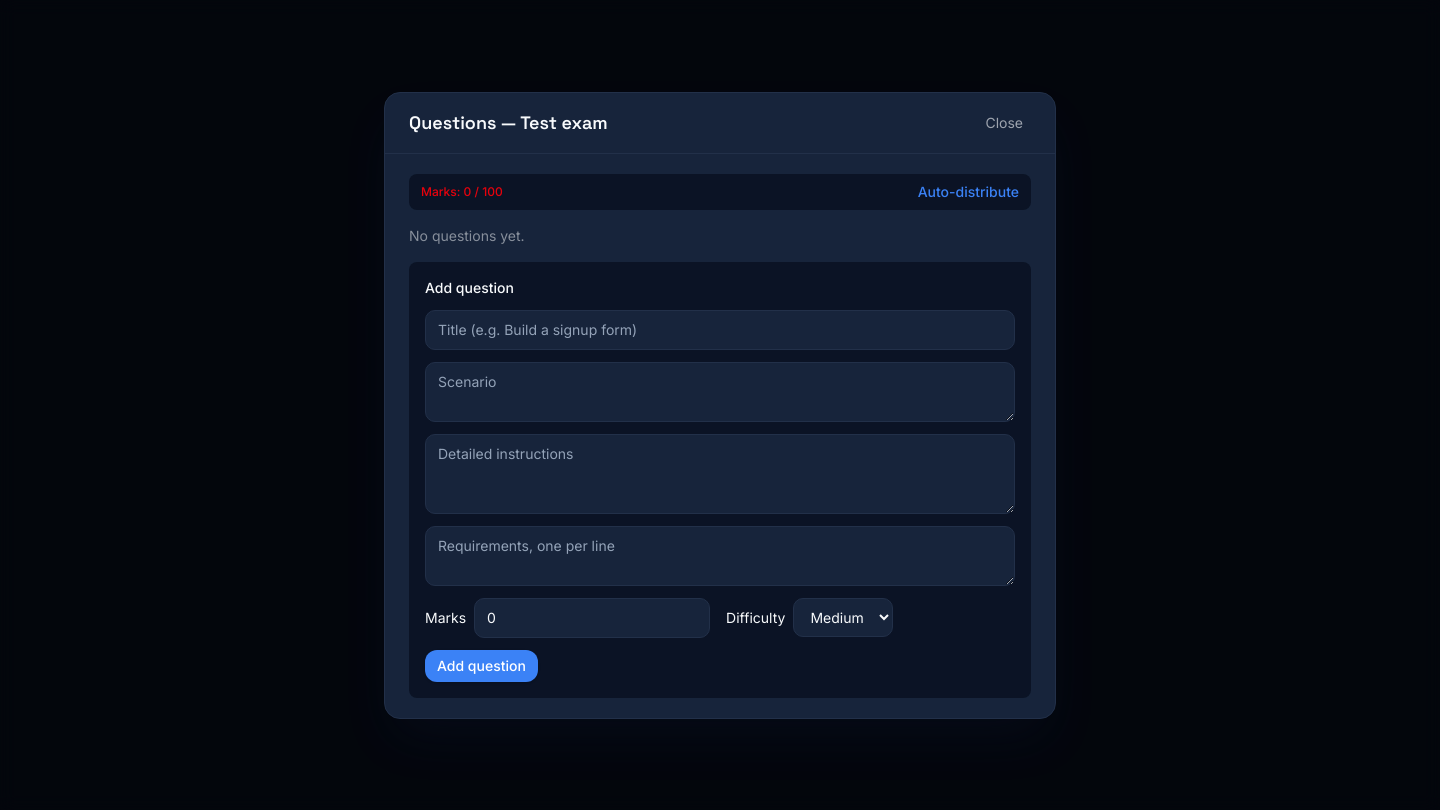
PracticalQuestionsModal › shows a locked banner when the server rejects a change because the exam already has an assignment
Expected: the list item "No questions yet." is shown, [409,226,525,244]
Type "New question" into the field with placeholder "Title (e.g. Build a signup form)". click: (720, 330)
box: [425,310,1015,350]
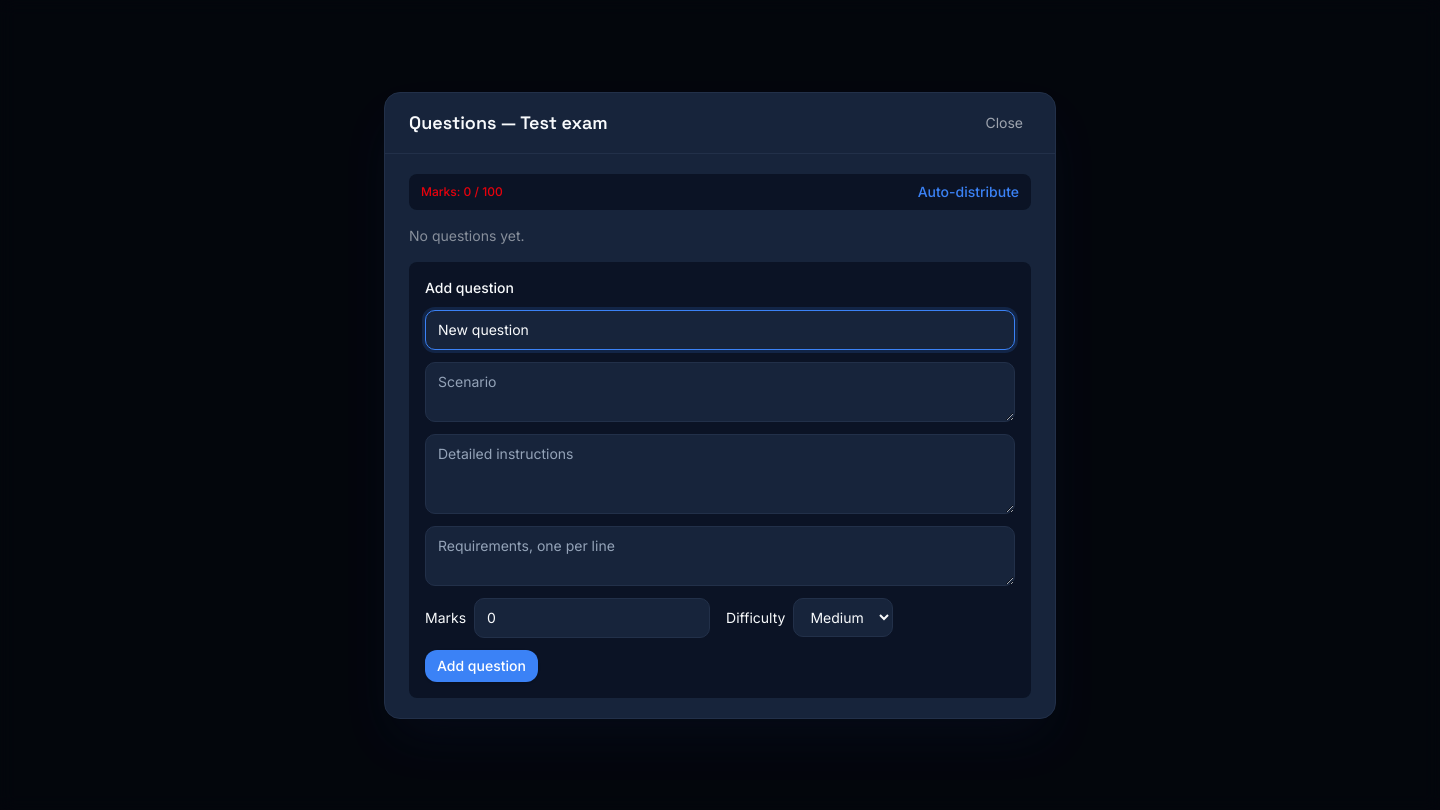
Click the button "Add question". click: click(481, 666)
box: [425,650,538,682]
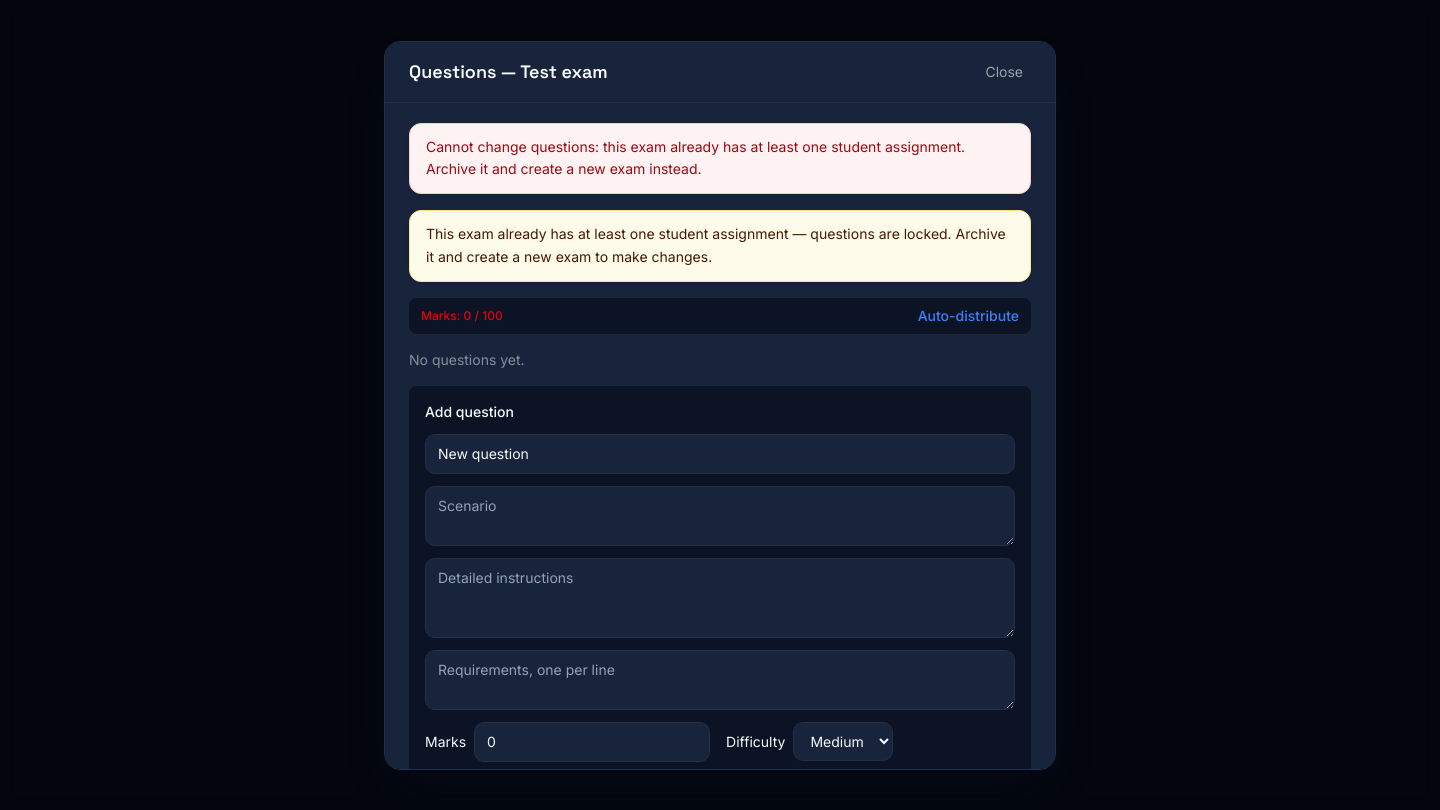
Now the text "questions are locked" is shown, box [426,225,1006,265]
